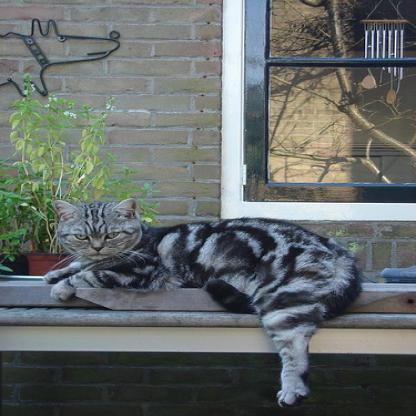cat: (50, 187, 364, 409)
